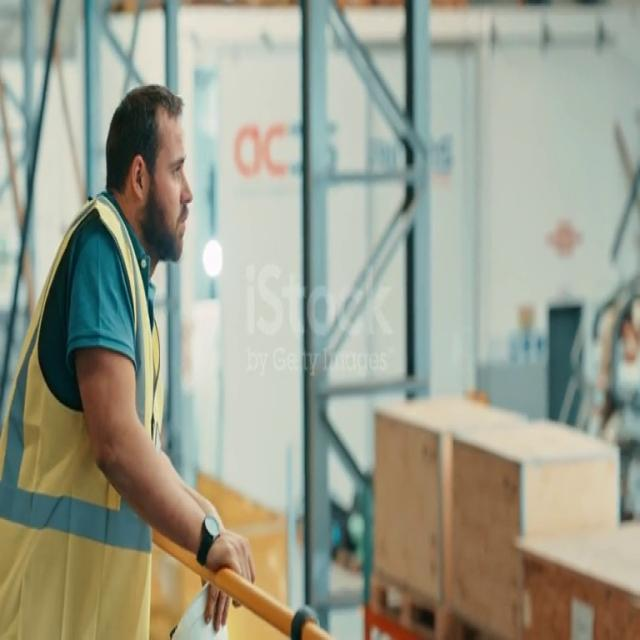sem_capacete: (86, 65, 208, 276)
